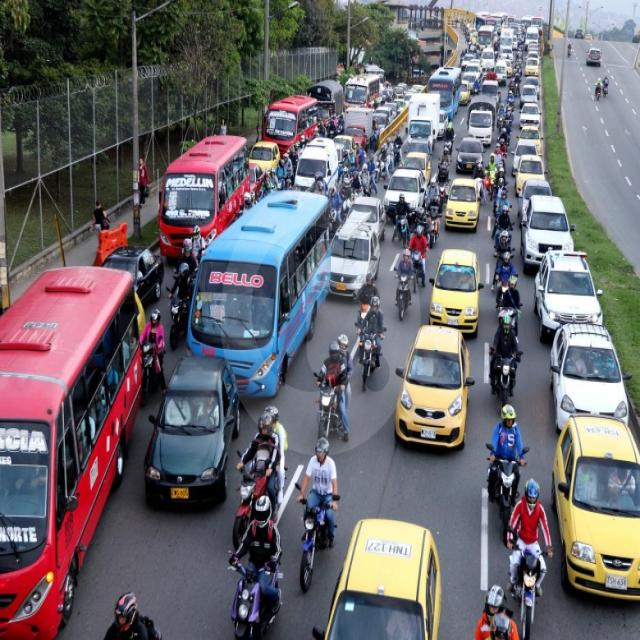BUS: (0, 264, 139, 640), (194, 191, 340, 401), (160, 138, 250, 264), (264, 100, 318, 155), (346, 80, 370, 111)
